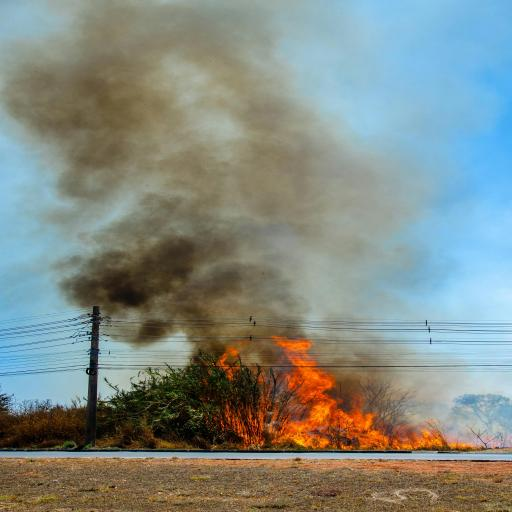wildfire: (0, 253, 512, 512)
